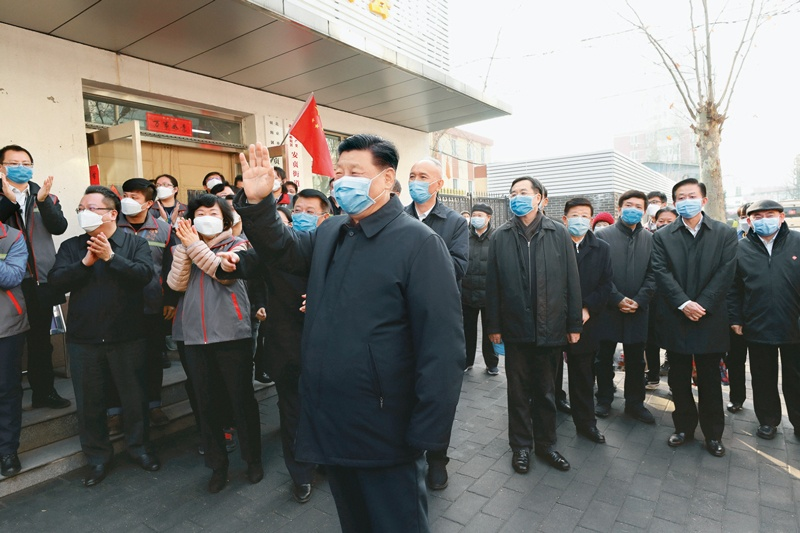correctlyWear: (331, 157, 397, 219), (75, 198, 118, 233), (408, 168, 443, 204), (672, 187, 707, 220), (289, 201, 325, 232), (747, 206, 782, 237), (561, 205, 592, 238), (507, 187, 541, 217), (190, 208, 226, 235), (1, 156, 33, 183), (618, 195, 645, 224), (121, 190, 150, 217), (156, 178, 178, 200), (646, 198, 667, 216), (470, 209, 489, 228)
